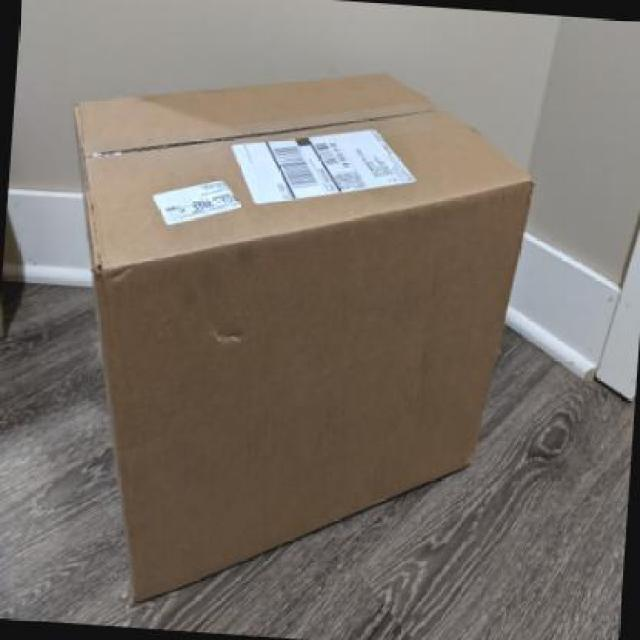box: (80, 64, 540, 598)
